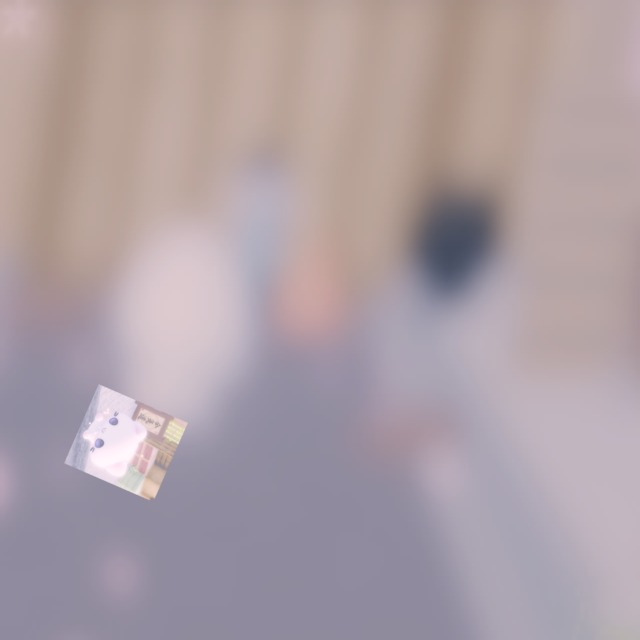urso_branco: (64, 384, 188, 502)
